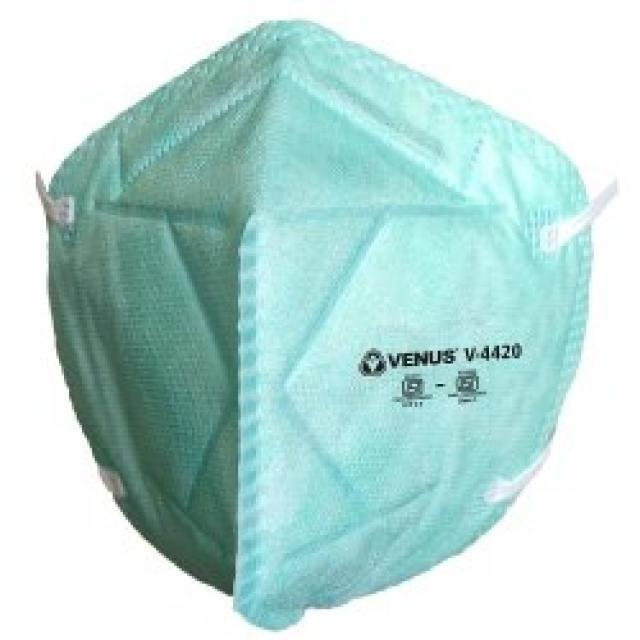face mask: (38, 20, 622, 622)
